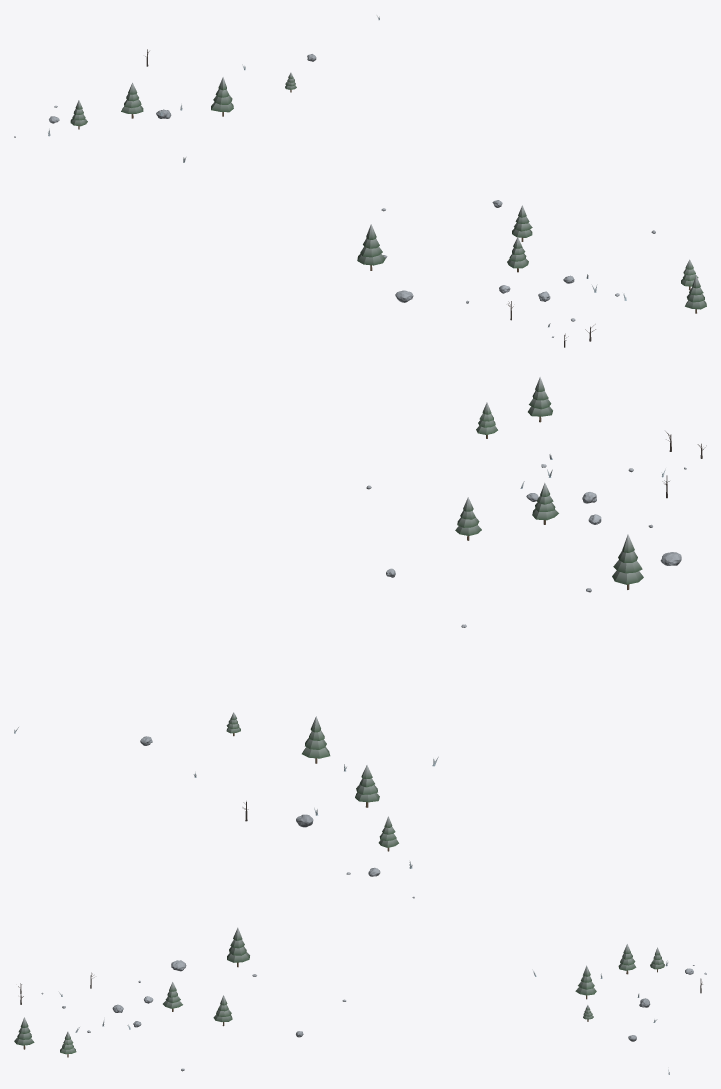
File: frost_land_scatter_c18_12.glb
3 views of the same model, one above another, from view 1: azimuth 30°, elevation 25°; view 2: azimuth 150°, elevation 25°; view 3: azimuth 270°, elevation 25° (orthographic). The views are drawn at different scales.
Parts seen in each view (by area): view 1: frost_land_scatter_c18_12; view 2: frost_land_scatter_c18_12; view 3: frost_land_scatter_c18_12.
Part boxes in pixels (x1,y1,x2,y2): frost_land_scatter_c18_12: [14, 16, 706, 347]; frost_land_scatter_c18_12: [14, 377, 706, 898]; frost_land_scatter_c18_12: [14, 927, 706, 1074].
Size of the model in its own units: 127 by 30.74 by 256.
